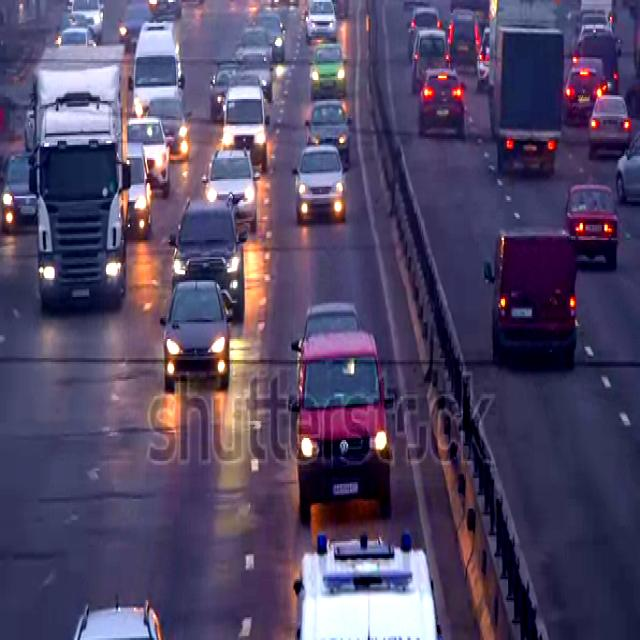ambulance: (284, 527, 444, 640)
